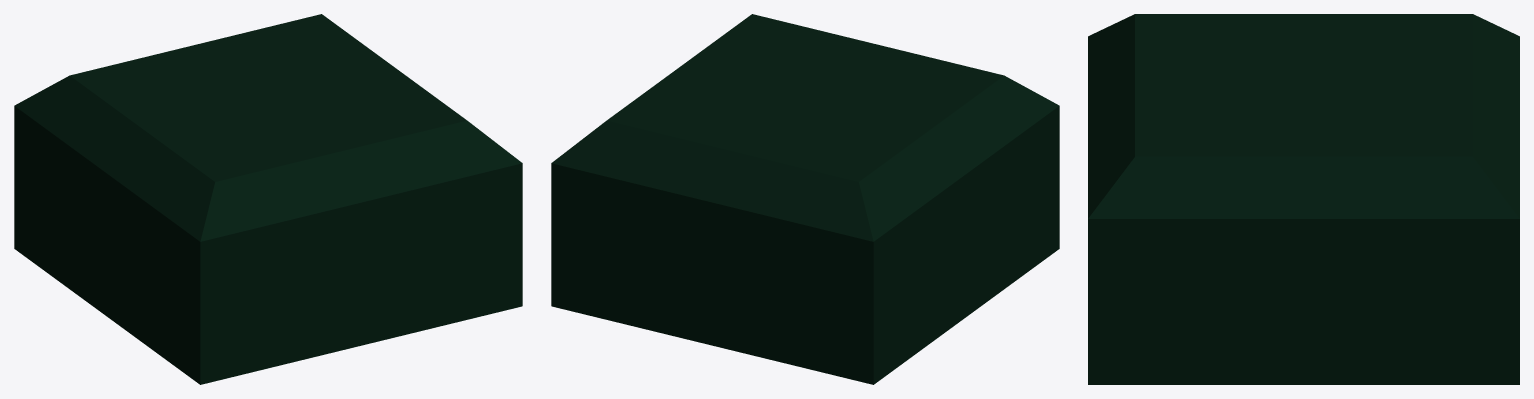
File: portal.fbx
3 renders of one model, left to right at view 1: azimuth 30°, elevation 25°; view 2: azimuth 150°, elevation 25°; view 3: azimuth 270°, elevation 25°, orthographic. The views are drawn at different scales.
Visible parts, largest first — view 1: Cube; view 2: Cube; view 3: Cube.
Part boxes in pixels (x1,y1,x2,y2): Cube: (14, 14, 522, 384); Cube: (551, 14, 1059, 384); Cube: (1088, 14, 1519, 384).
Size of the model in its own units: 200 by 106 by 200.
